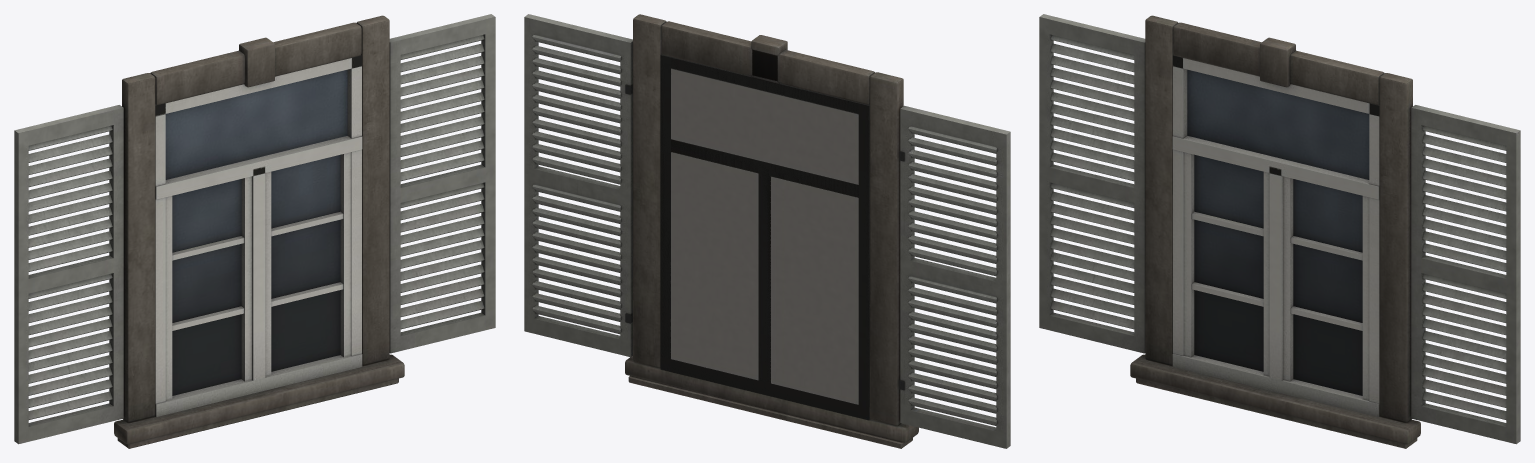
File: win_town_grey.glb
The picture shows the model from 3 angles, left to right: view 1: azimuth 30°, elevation 25°; view 2: azimuth 150°, elevation 25°; view 3: azimuth 330°, elevation 25°; orthographic projection.
Visible parts, largest first — view 1: win_town_grey; view 2: win_town_grey; view 3: win_town_grey.
Boxes of the visible parts, bbox=[...] form: win_town_grey: bbox=[14, 14, 495, 448]; win_town_grey: bbox=[524, 14, 1010, 448]; win_town_grey: bbox=[1039, 14, 1520, 448].
Size of the model in its own units: 2.36 by 1.74 by 0.1242.
1 material, 1 textured.
